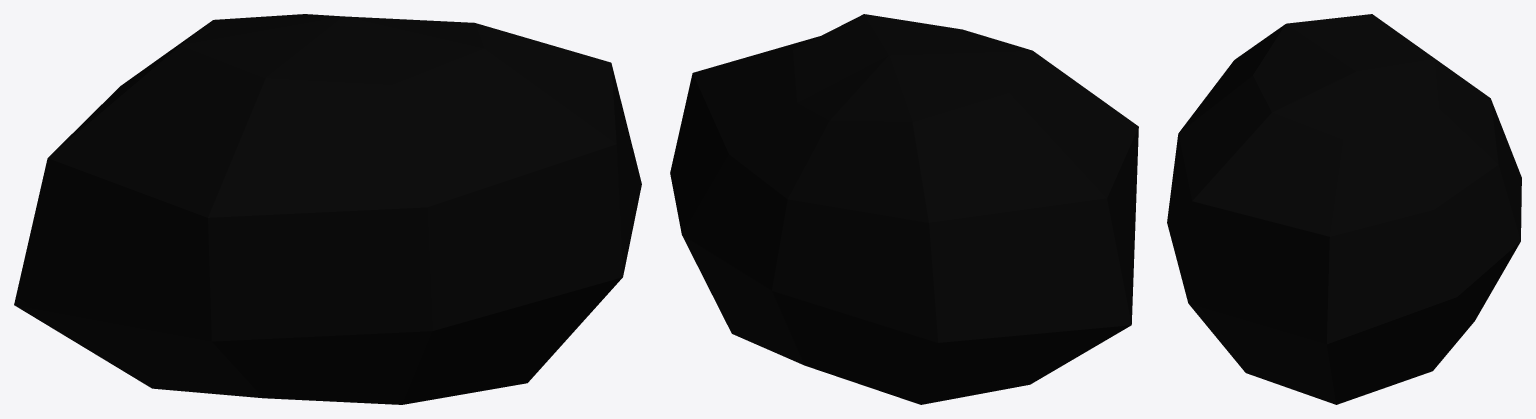
Rendered from SM_rock_small.fbx.
3 renders of one model, left to right at view 1: azimuth 30°, elevation 25°; view 2: azimuth 150°, elevation 25°; view 3: azimuth 270°, elevation 25°, orthographic. The views are drawn at different scales.
Visible parts, largest first — view 1: rock_small; view 2: rock_small; view 3: rock_small.
Boxes of the visible parts, x1=… form: rock_small: x1=14, y1=14, x2=641, y2=404; rock_small: x1=670, y1=14, x2=1138, y2=404; rock_small: x1=1167, y1=14, x2=1521, y2=404.
Size of the model in its own units: 0.5909 by 0.3585 by 0.4053.
